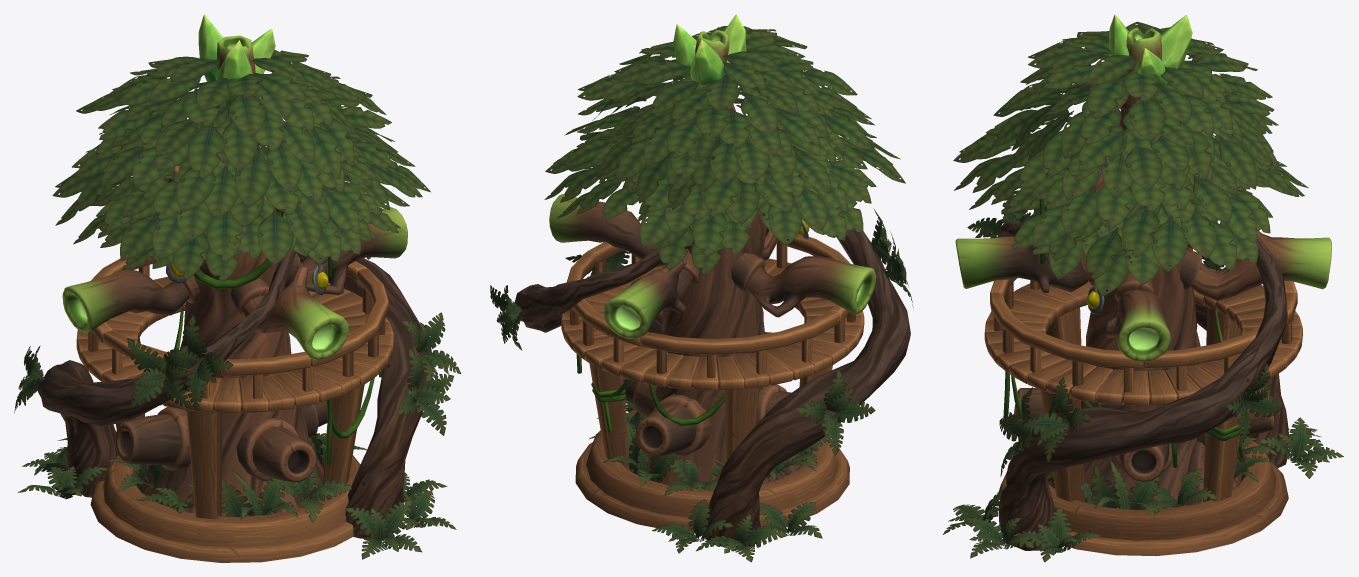
Rendered from SM_TowerDefense_Nature_Lv5.fbx.
3 views of the same model, side by side, from view 1: azimuth 30°, elevation 25°; view 2: azimuth 150°, elevation 25°; view 3: azimuth 270°, elevation 25° (orthographic). The views are drawn at different scales.
Visible parts, largest first — view 1: SM_TowerDefense_Nature_Lv5; view 2: SM_TowerDefense_Nature_Lv5; view 3: SM_TowerDefense_Nature_Lv5.
Part boxes in pixels (left/top/right/bottom): SM_TowerDefense_Nature_Lv5: left=14, top=14, right=460, bottom=562; SM_TowerDefense_Nature_Lv5: left=490, top=14, right=913, bottom=562; SM_TowerDefense_Nature_Lv5: left=943, top=14, right=1343, bottom=562.
Bounding box in the file's own units: 1602 × 1927 × 1458.
